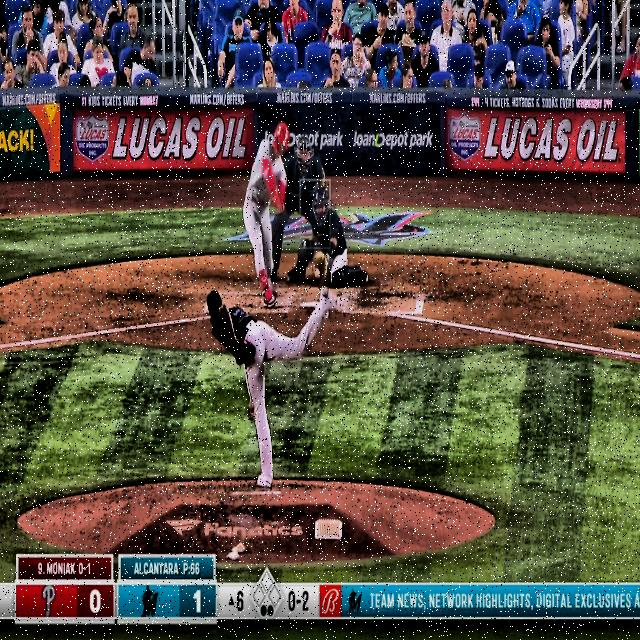baseball: (313, 267, 321, 281)
